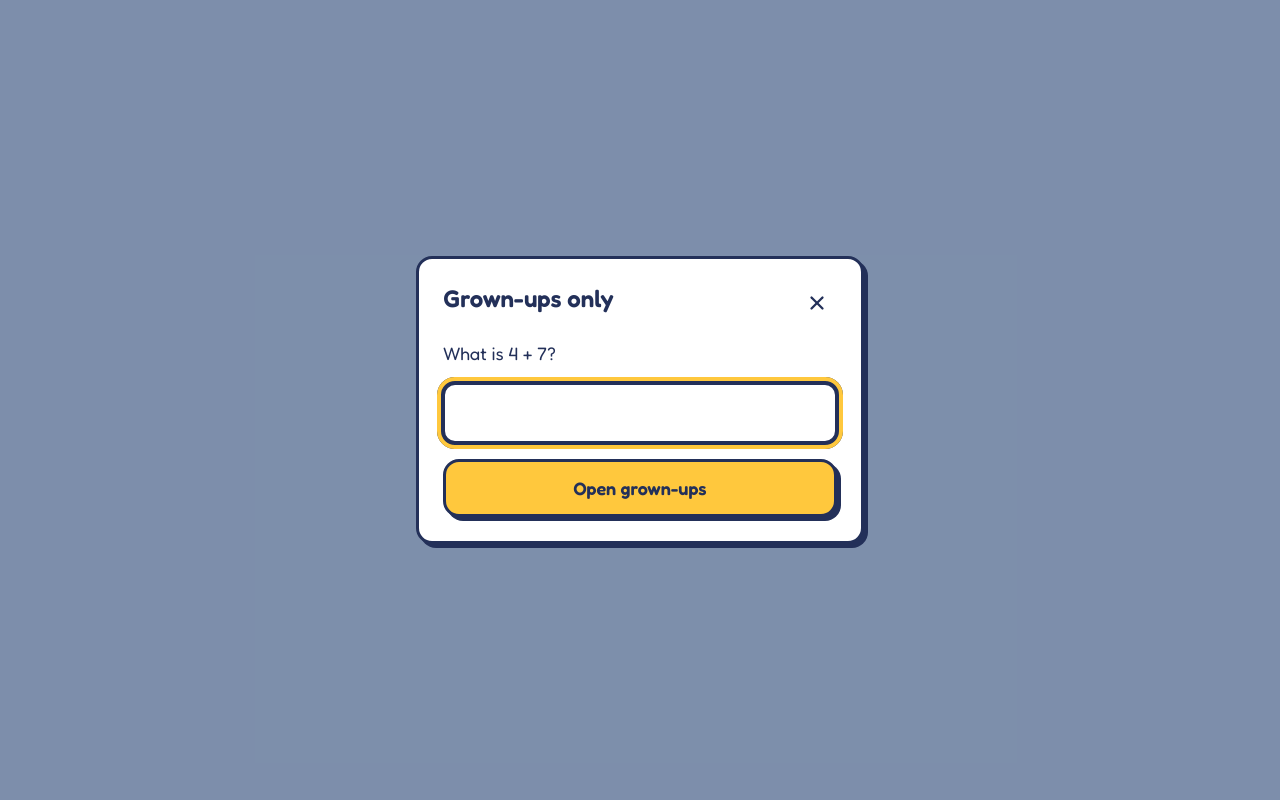
Test case: ParentGate › asks a new sum after a wrong answer
Type "12" into the field at (640, 413), box left=443, top=383, right=837, bottom=443
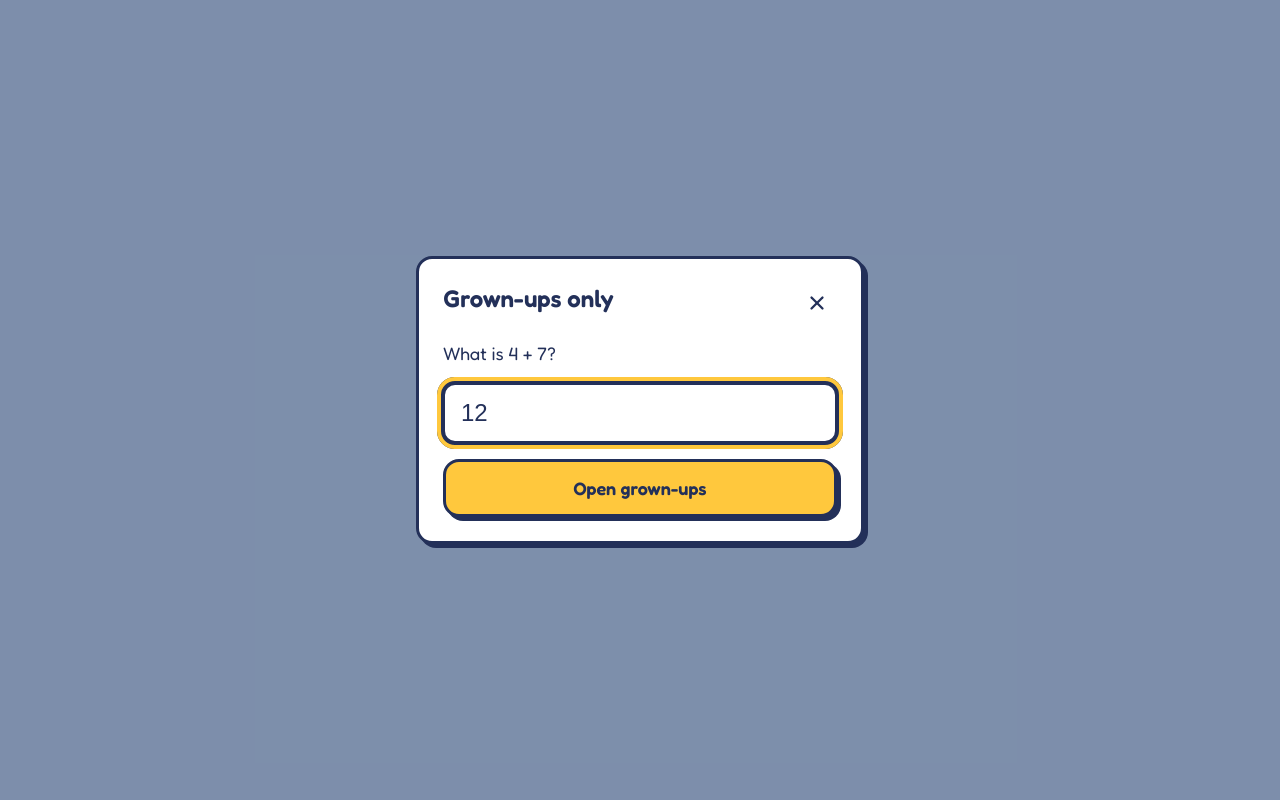
Click the button "Open grown-ups" at (640, 488), box left=443, top=459, right=837, bottom=517
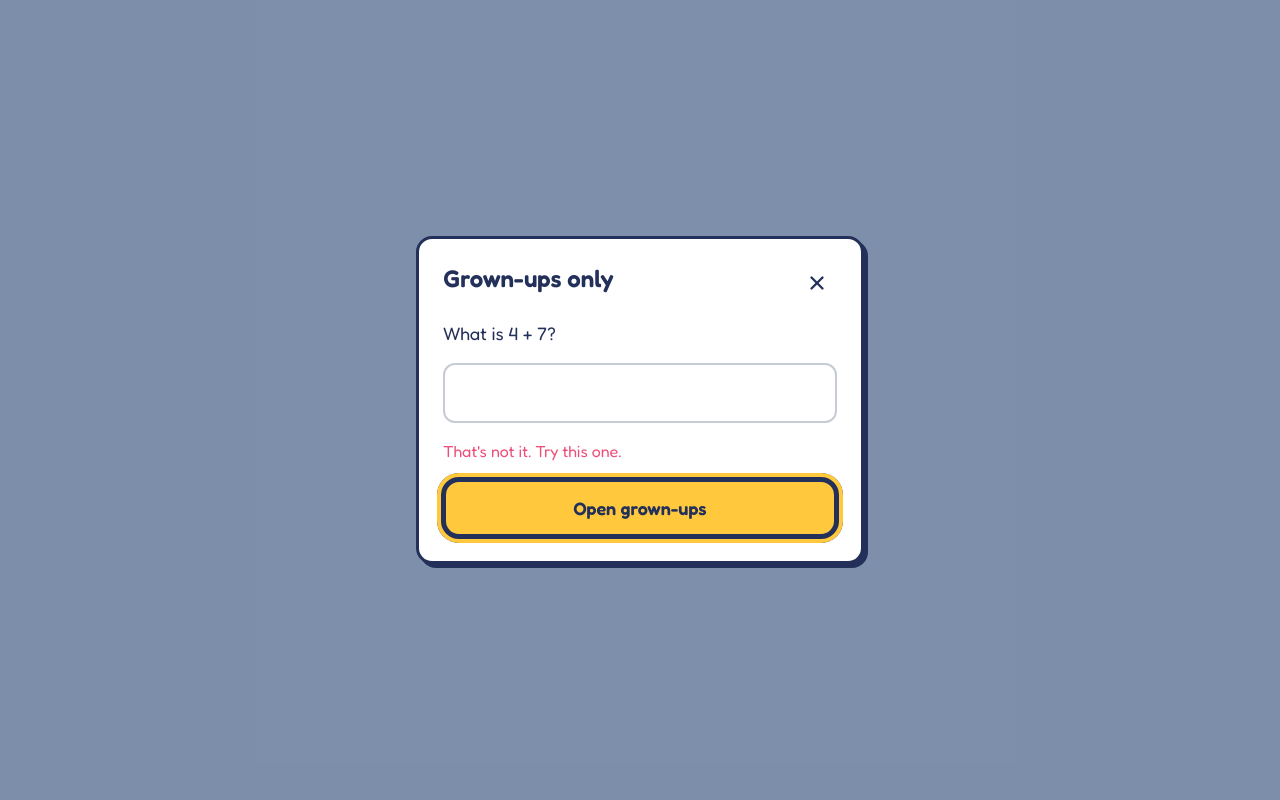
Expected: the message shows "That's not it", left=443, top=441, right=622, bottom=461
Expected: the field is empty, left=443, top=363, right=837, bottom=423
